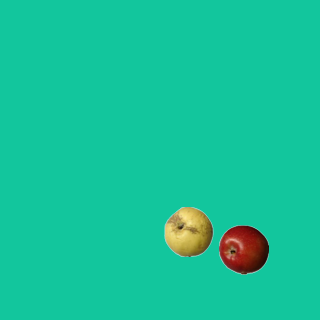Apple Braeburn: (218, 224, 268, 274)
Apple Golden 1: (163, 206, 213, 256)
